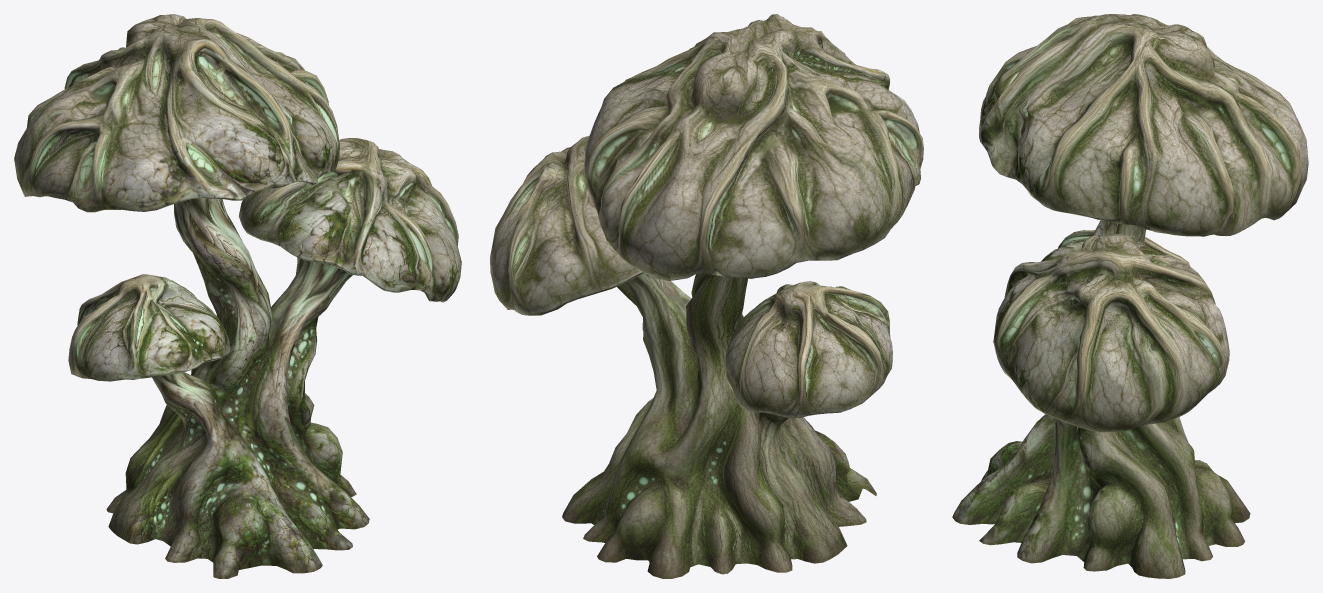
File: giant-mushroom-cluster.glb
3 renders of one model, left to right at view 1: azimuth 30°, elevation 25°; view 2: azimuth 150°, elevation 25°; view 3: azimuth 270°, elevation 25°, orthographic. The views are drawn at different scales.
Visible parts, largest first — view 1: mesh_node; view 2: mesh_node; view 3: mesh_node.
Part boxes in pixels (bbox=[...]): mesh_node: bbox=[14, 14, 461, 578]; mesh_node: bbox=[490, 14, 923, 578]; mesh_node: bbox=[952, 14, 1308, 578].
Bounding box in the file's own units: 3.39 × 4 × 2.69.
Materials: 1 (1 with a texture image).
